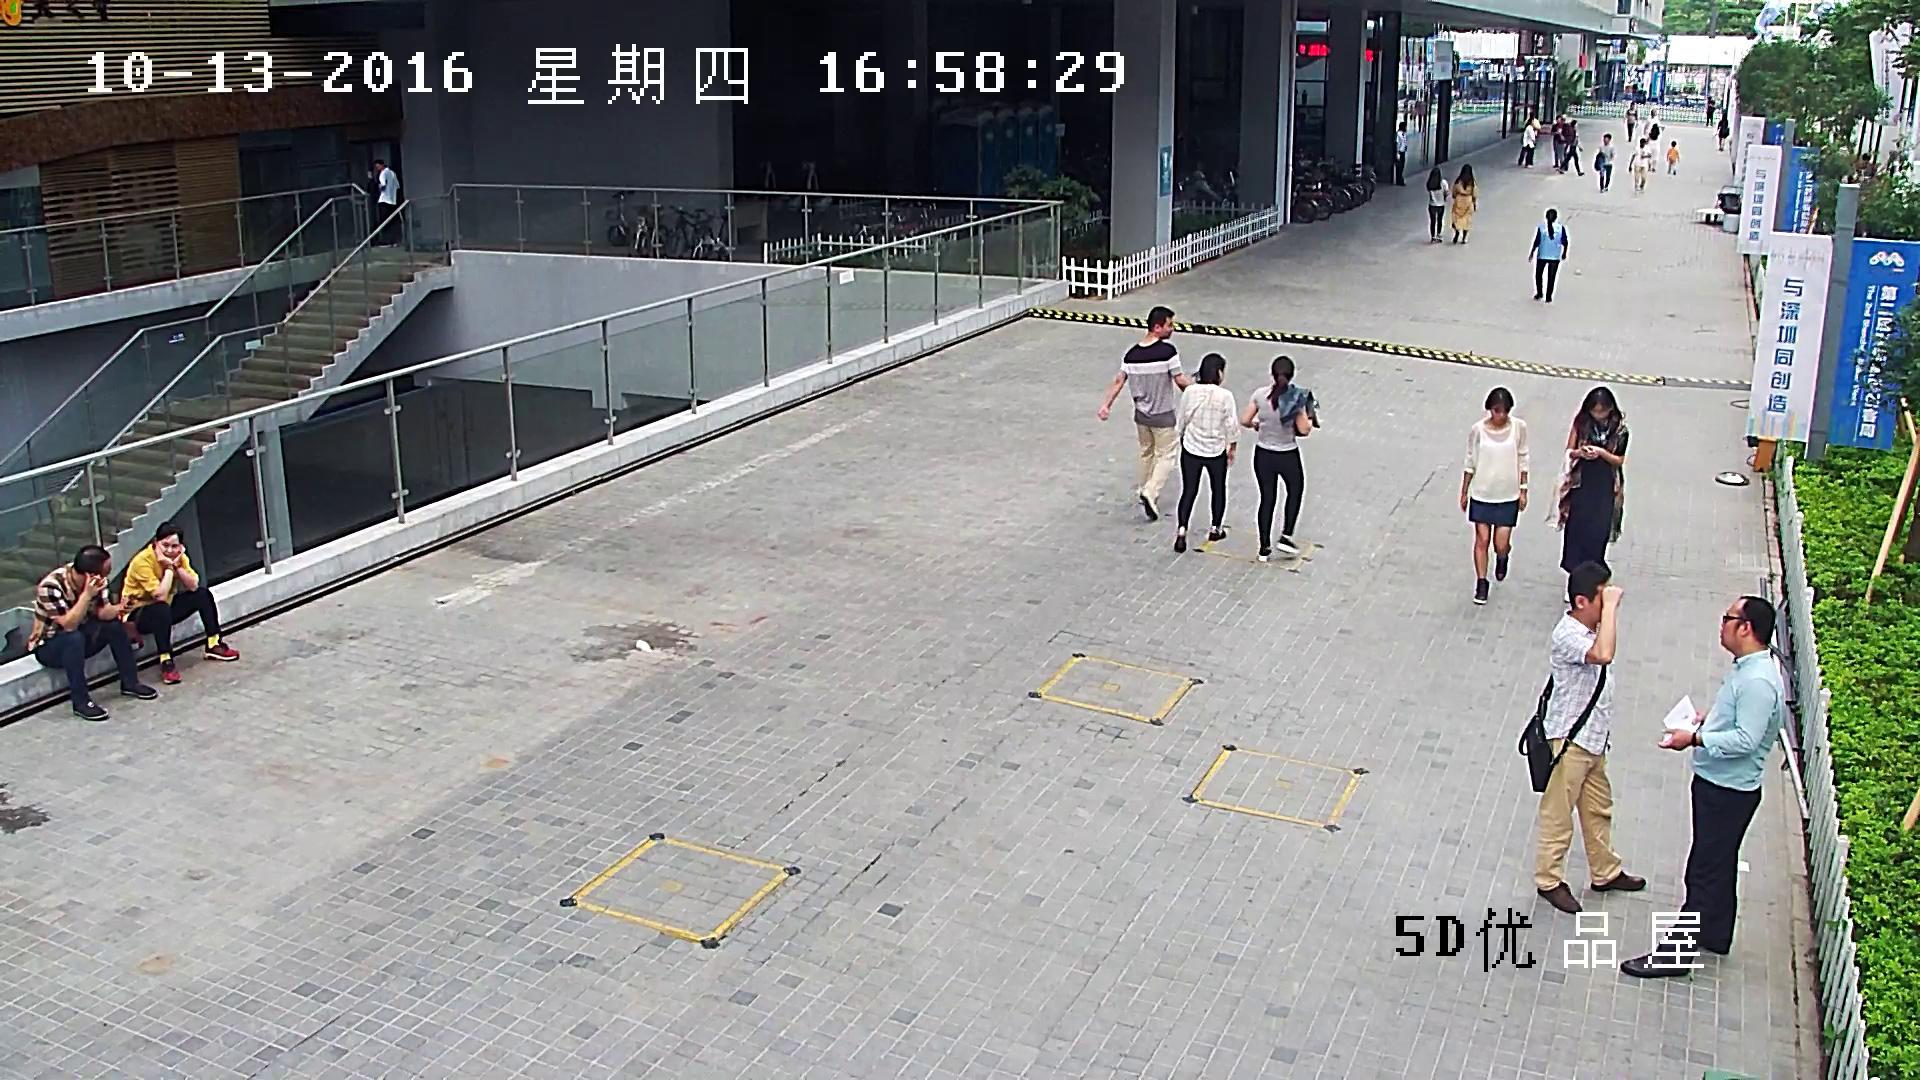person: (1616, 594, 1784, 979), (1516, 557, 1646, 913), (25, 542, 159, 722), (118, 519, 241, 685), (1096, 306, 1190, 521), (1543, 387, 1629, 604), (1239, 354, 1320, 564), (1457, 388, 1528, 605), (1171, 352, 1238, 553), (1527, 208, 1568, 304), (371, 157, 401, 249), (1451, 163, 1477, 244), (1424, 166, 1448, 244), (1555, 118, 1585, 177), (1627, 137, 1652, 195), (1593, 134, 1615, 193), (1516, 118, 1536, 168), (1846, 151, 1875, 185), (1394, 121, 1408, 186), (1550, 115, 1567, 169), (1646, 123, 1660, 172), (1643, 108, 1666, 139), (1713, 112, 1730, 152), (1624, 101, 1639, 143), (1665, 141, 1680, 175), (1524, 111, 1541, 137), (1704, 94, 1716, 127)
